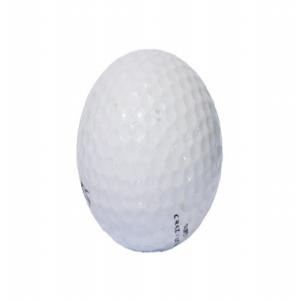Golf: (71, 44, 225, 256)
